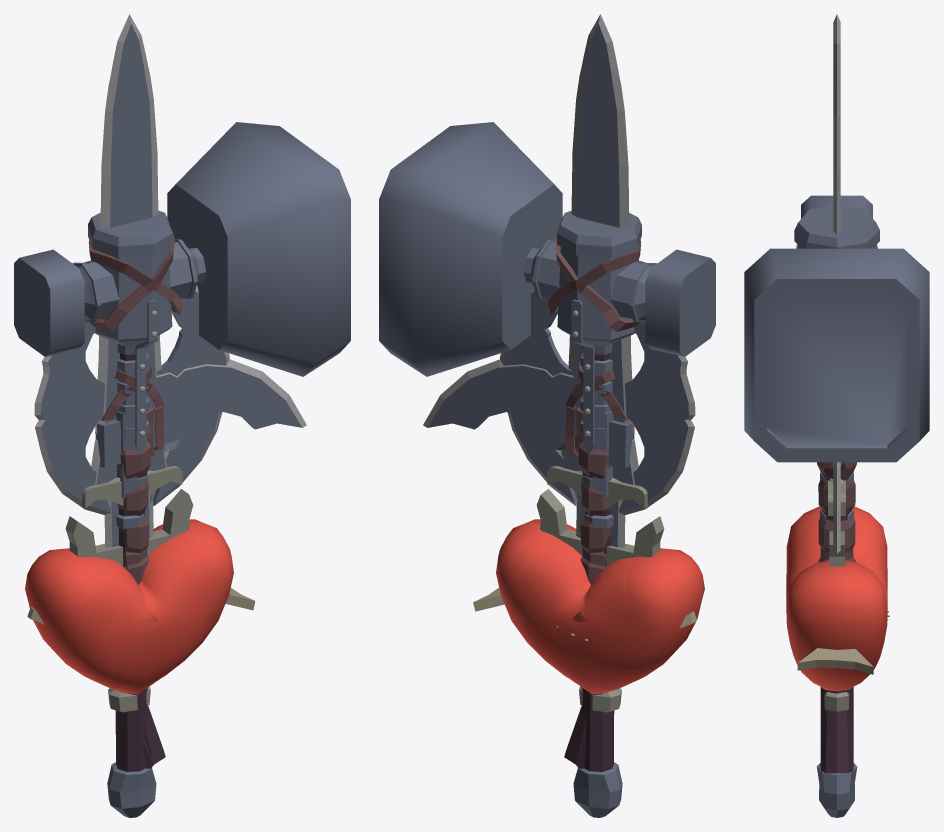
Rendered from m_axe_hammer_dagger_fish_bone_swoed_swordbig_heard.fbx.
3 renders of one model, left to right at view 1: azimuth 30°, elevation 25°; view 2: azimuth 150°, elevation 25°; view 3: azimuth 270°, elevation 25°, orthographic.
Parts seen in each view (by area): view 1: Hammer_Double, Axe_Double, Heart_Broken, Sword_big, Axe_small, Heart, Sword; view 2: Hammer_Double, Axe_Double, Heart_Broken, Sword_big, Axe_small, Heart, Sword; view 3: Hammer_Double, Heart_Broken, Heart, Axe_Double, Sword_big, FishBone, Sword, Axe_small.
Part boxes in pixels (x1=…): Hammer_Double: x1=14, y1=122, x2=350, y2=817; Axe_Double: x1=34, y1=285, x2=229, y2=768; Heart_Broken: x1=25, y1=519, x2=233, y2=693; Sword_big: x1=81, y1=14, x2=182, y2=508; Axe_small: x1=95, y1=359, x2=306, y2=768; Heart: x1=94, y1=528, x2=212, y2=694; Sword: x1=65, y1=342, x2=193, y2=712; Hammer_Double: x1=379, y1=122, x2=715, y2=817; Axe_Double: x1=500, y1=285, x2=695, y2=768; Heart_Broken: x1=496, y1=519, x2=704, y2=693; Sword_big: x1=547, y1=14, x2=648, y2=508; Axe_small: x1=423, y1=359, x2=634, y2=768; Heart: x1=517, y1=528, x2=635, y2=694; Sword: x1=536, y1=342, x2=664, y2=712; Hammer_Double: x1=744, y1=195, x2=929, y2=817; Heart_Broken: x1=786, y1=506, x2=887, y2=691; Heart: x1=786, y1=525, x2=887, y2=606; Axe_Double: x1=820, y1=472, x2=853, y2=773; Sword_big: x1=828, y1=14, x2=845, y2=515; FishBone: x1=797, y1=611, x2=889, y2=674; Sword: x1=824, y1=531, x2=849, y2=711; Axe_small: x1=820, y1=462, x2=853, y2=765.
Bounding box in the file's own units: 1.24 × 3.41 × 0.7173.
